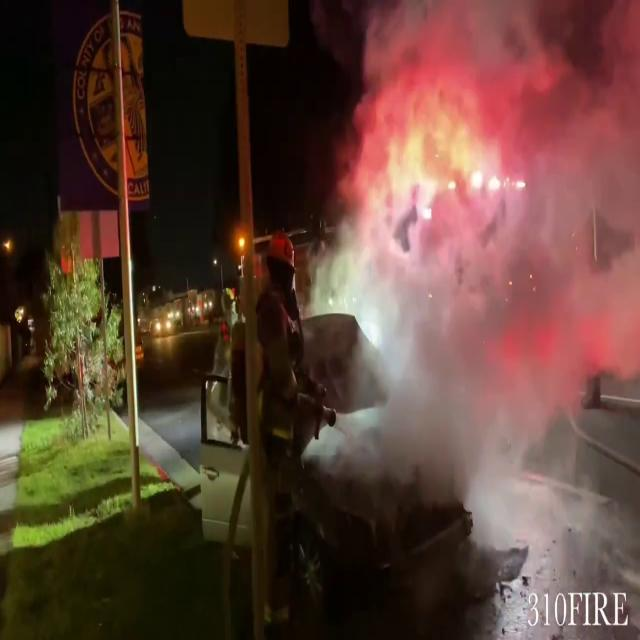Smoke: (311, 1, 640, 514)
